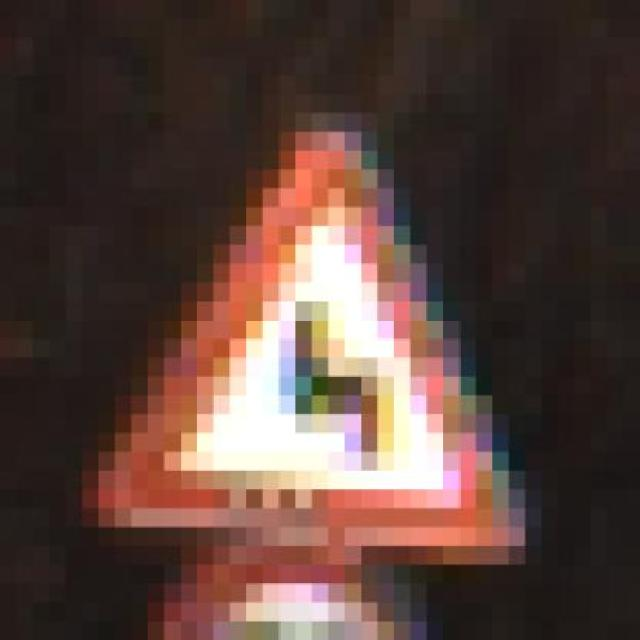Left Zig Zag Traffic: (99, 112, 542, 565)
